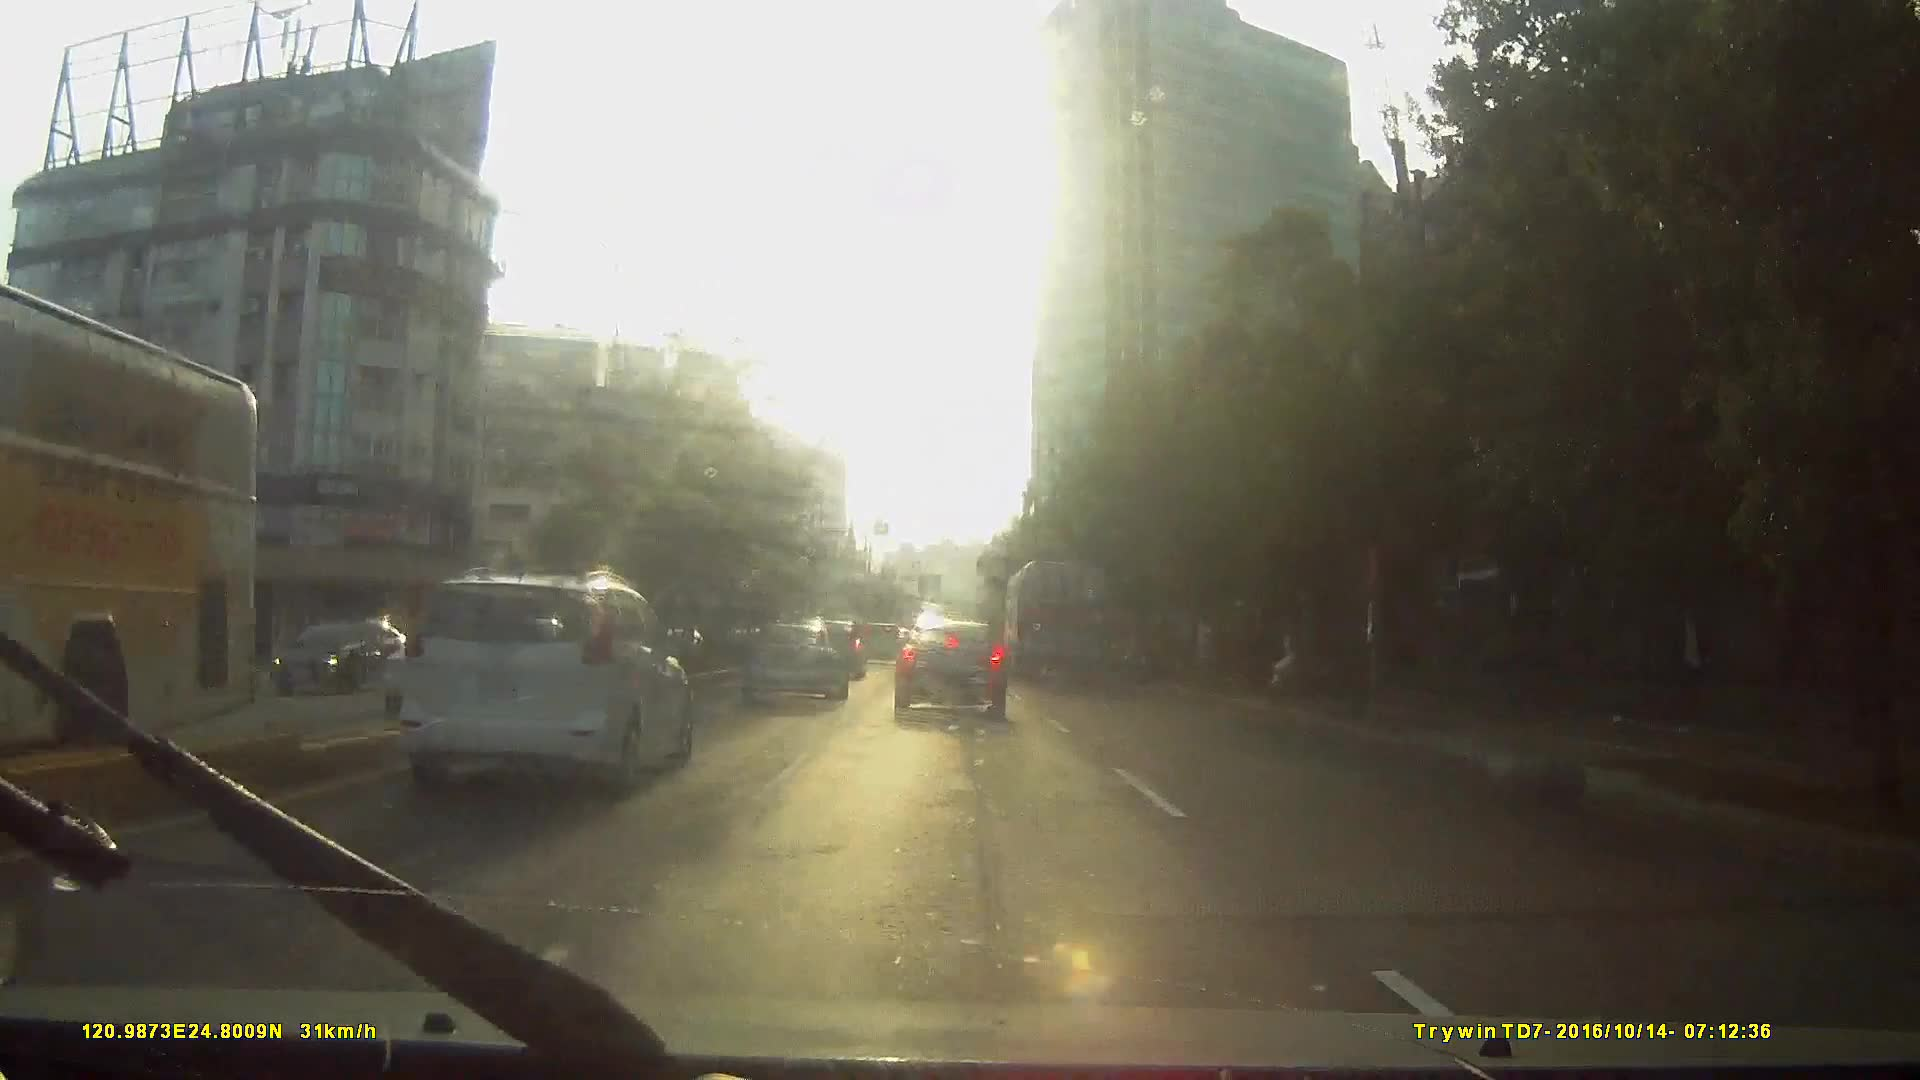pedestrian: (1646, 579, 1722, 743)
vehicle: (1, 284, 269, 807), (250, 556, 684, 868), (394, 568, 690, 794), (255, 615, 426, 701), (1004, 556, 1111, 684), (889, 612, 1005, 719), (735, 622, 844, 705), (853, 616, 902, 665)
